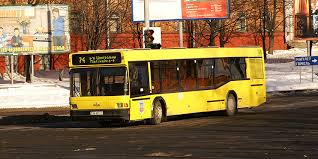bus: (65, 46, 268, 123)
